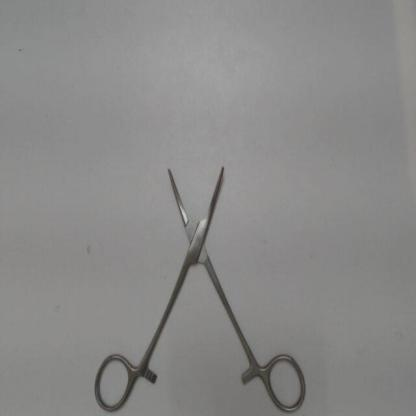Crile Artery Forceps: (88, 158, 307, 413)
